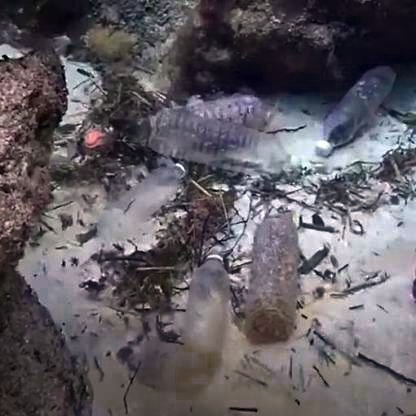pbottle: (135, 101, 304, 188), (69, 142, 196, 239), (230, 184, 309, 338), (306, 61, 414, 166), (178, 236, 246, 390)
